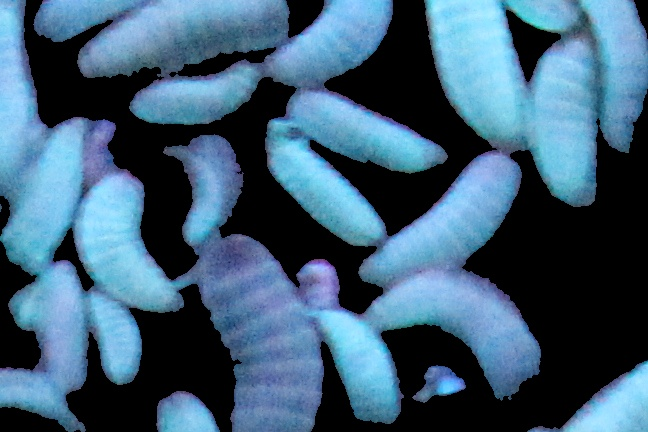larvae: (197, 233, 324, 432), (364, 140, 523, 288), (369, 267, 548, 398), (78, 170, 196, 317), (423, 1, 534, 154), (73, 1, 286, 79), (265, 119, 391, 247), (287, 87, 446, 172), (529, 32, 604, 209), (312, 304, 412, 420), (574, 1, 648, 154), (11, 115, 77, 279), (270, 2, 389, 89), (125, 59, 266, 126), (1, 1, 47, 200), (169, 146, 232, 254), (85, 295, 146, 390), (1, 365, 85, 429)
